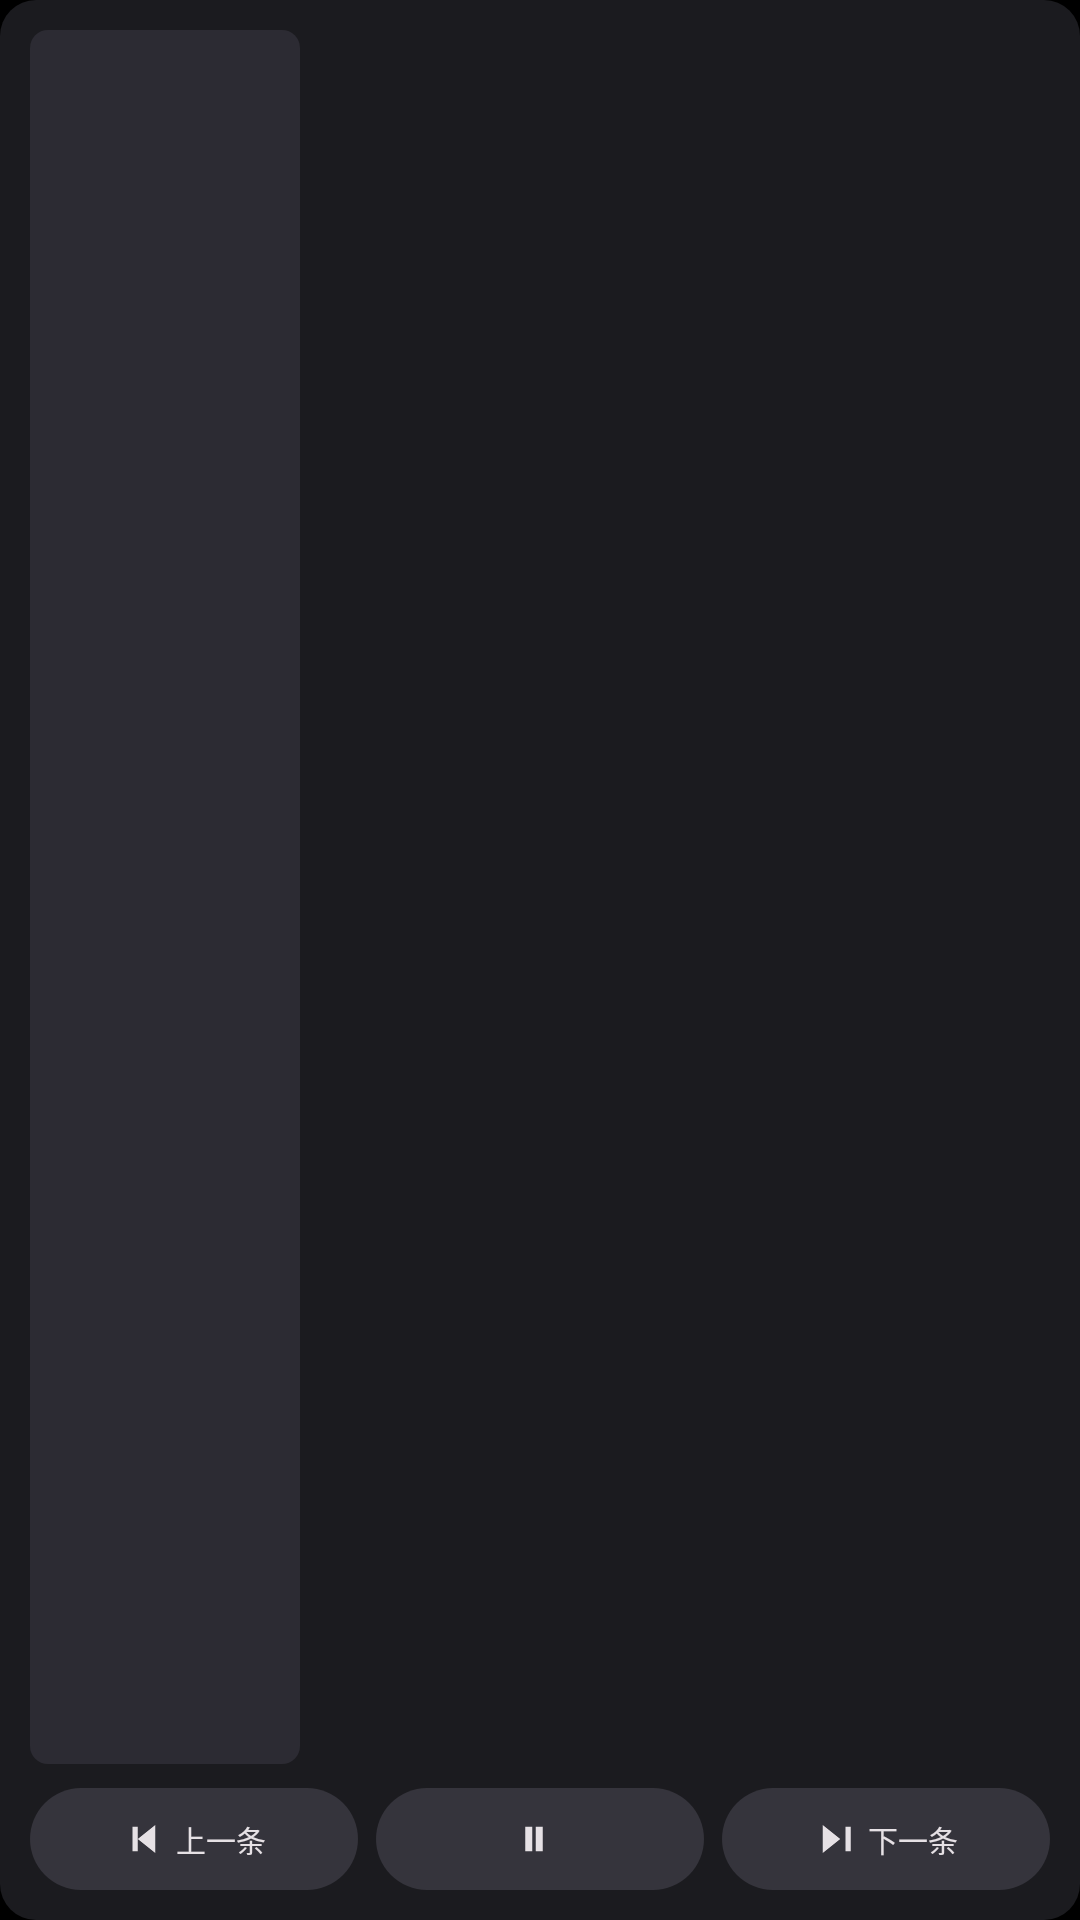

Icon bounding boxes for this 1080×1920 phone screenshot, format Rect(x1, y1, x2, y2):
widget pause: Rect(525, 1826, 543, 1852)
